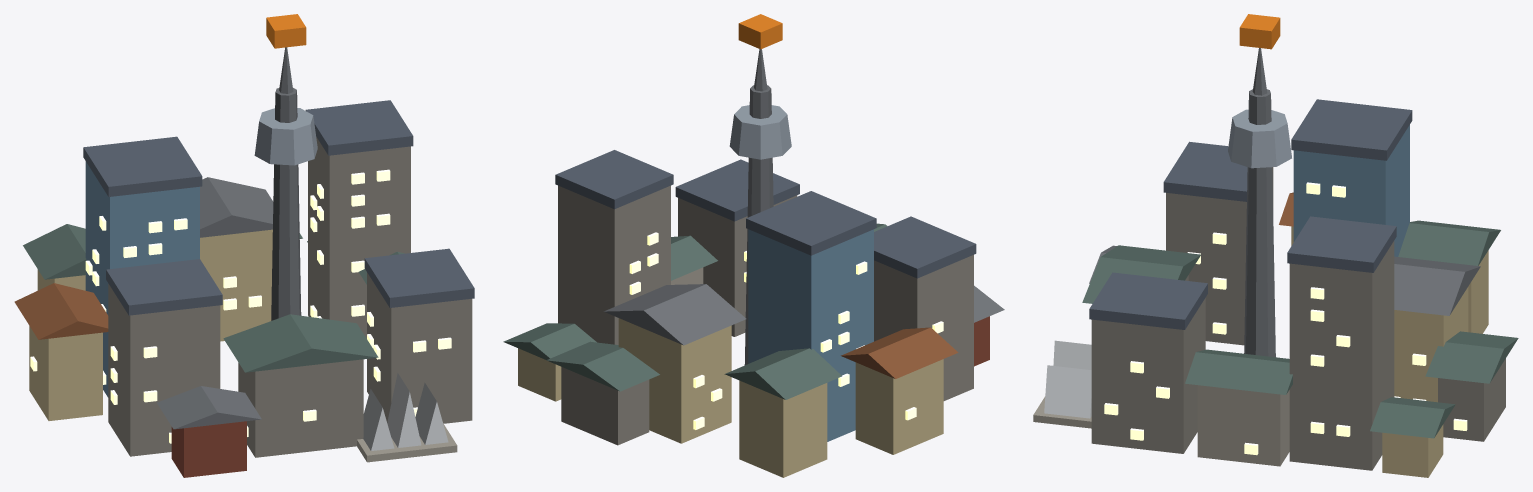
File: overworld-settlement-oceanian-city.glb
The picture shows the model from 3 angles, left to right: view 1: azimuth 30°, elevation 25°; view 2: azimuth 150°, elevation 25°; view 3: azimuth 270°, elevation 25°; orthographic projection. The views are drawn at different scales.
Parts seen in each view (by area): view 1: settlement; view 2: settlement; view 3: settlement.
Boxes of the visible parts, bbox=[...] form: settlement: bbox=[14, 14, 474, 477]; settlement: bbox=[503, 14, 1004, 477]; settlement: bbox=[1033, 14, 1518, 477].
Bounding box in the file's own units: 0.5109 × 0.4284 × 0.51.
